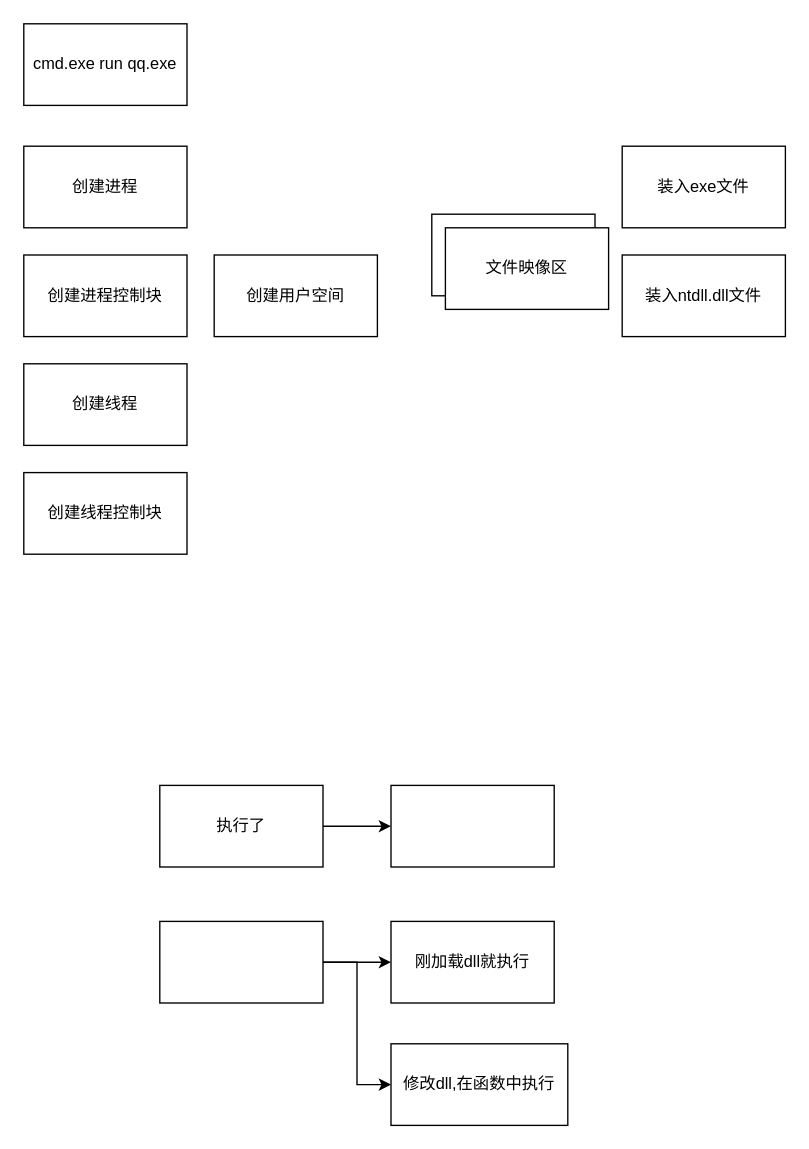
Image size: 809x1149. Some labels were removed from this diagram. Here are the shapes that lost their labels. From the top down, the box of each, then its label:
(390, 784, 554, 867): 无效
(158, 920, 323, 1003): 执行时机不对
